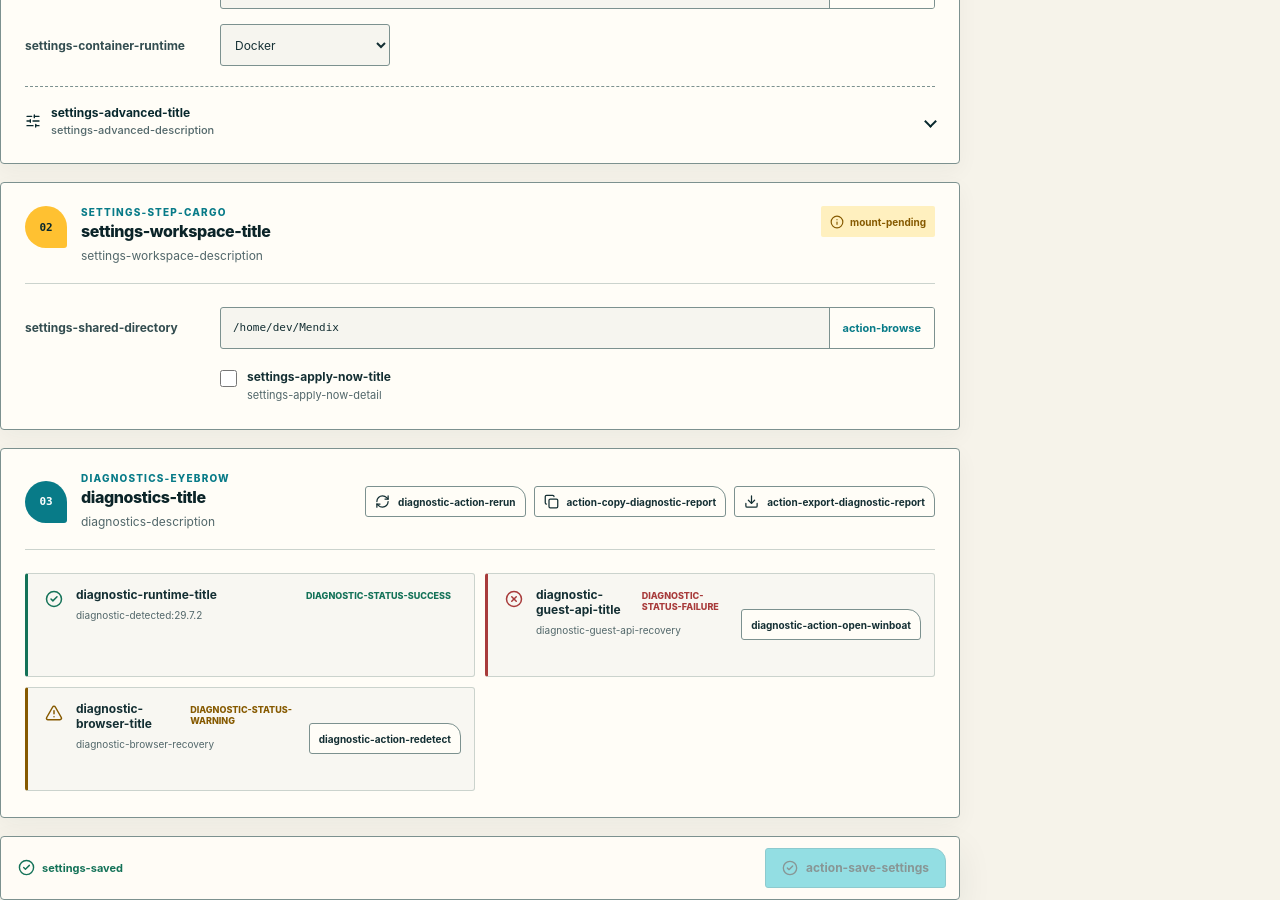
Test: SettingsPage advanced WinBoat settings › shows field errors and blocks connection tests until the draft is valid
The width and height of the screenshot is (1280, 900).
(page scrolled)
Click the heading "settings-advanced-title settings-advanced-description": (120, 121) [25, 105, 214, 137]
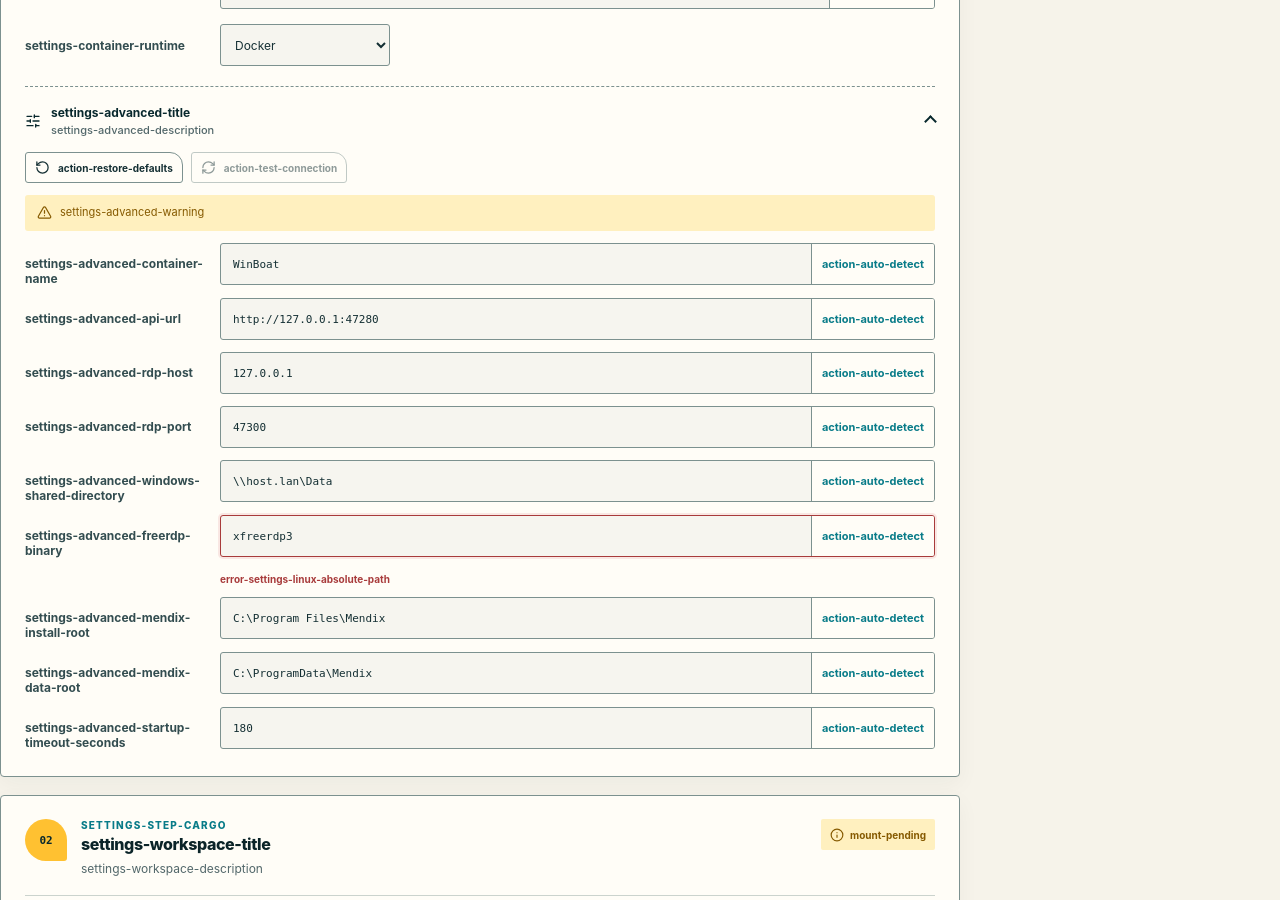
Check: the text "error-settings-linux-absolute-path" is shown, box [220, 573, 390, 585]
Check: the button "action-test-connection" is disabled, box [191, 152, 347, 183]
